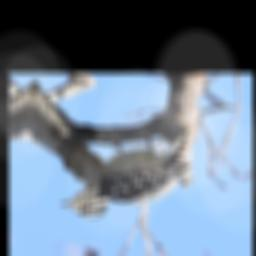Woodpecker: (56, 111, 199, 235)
